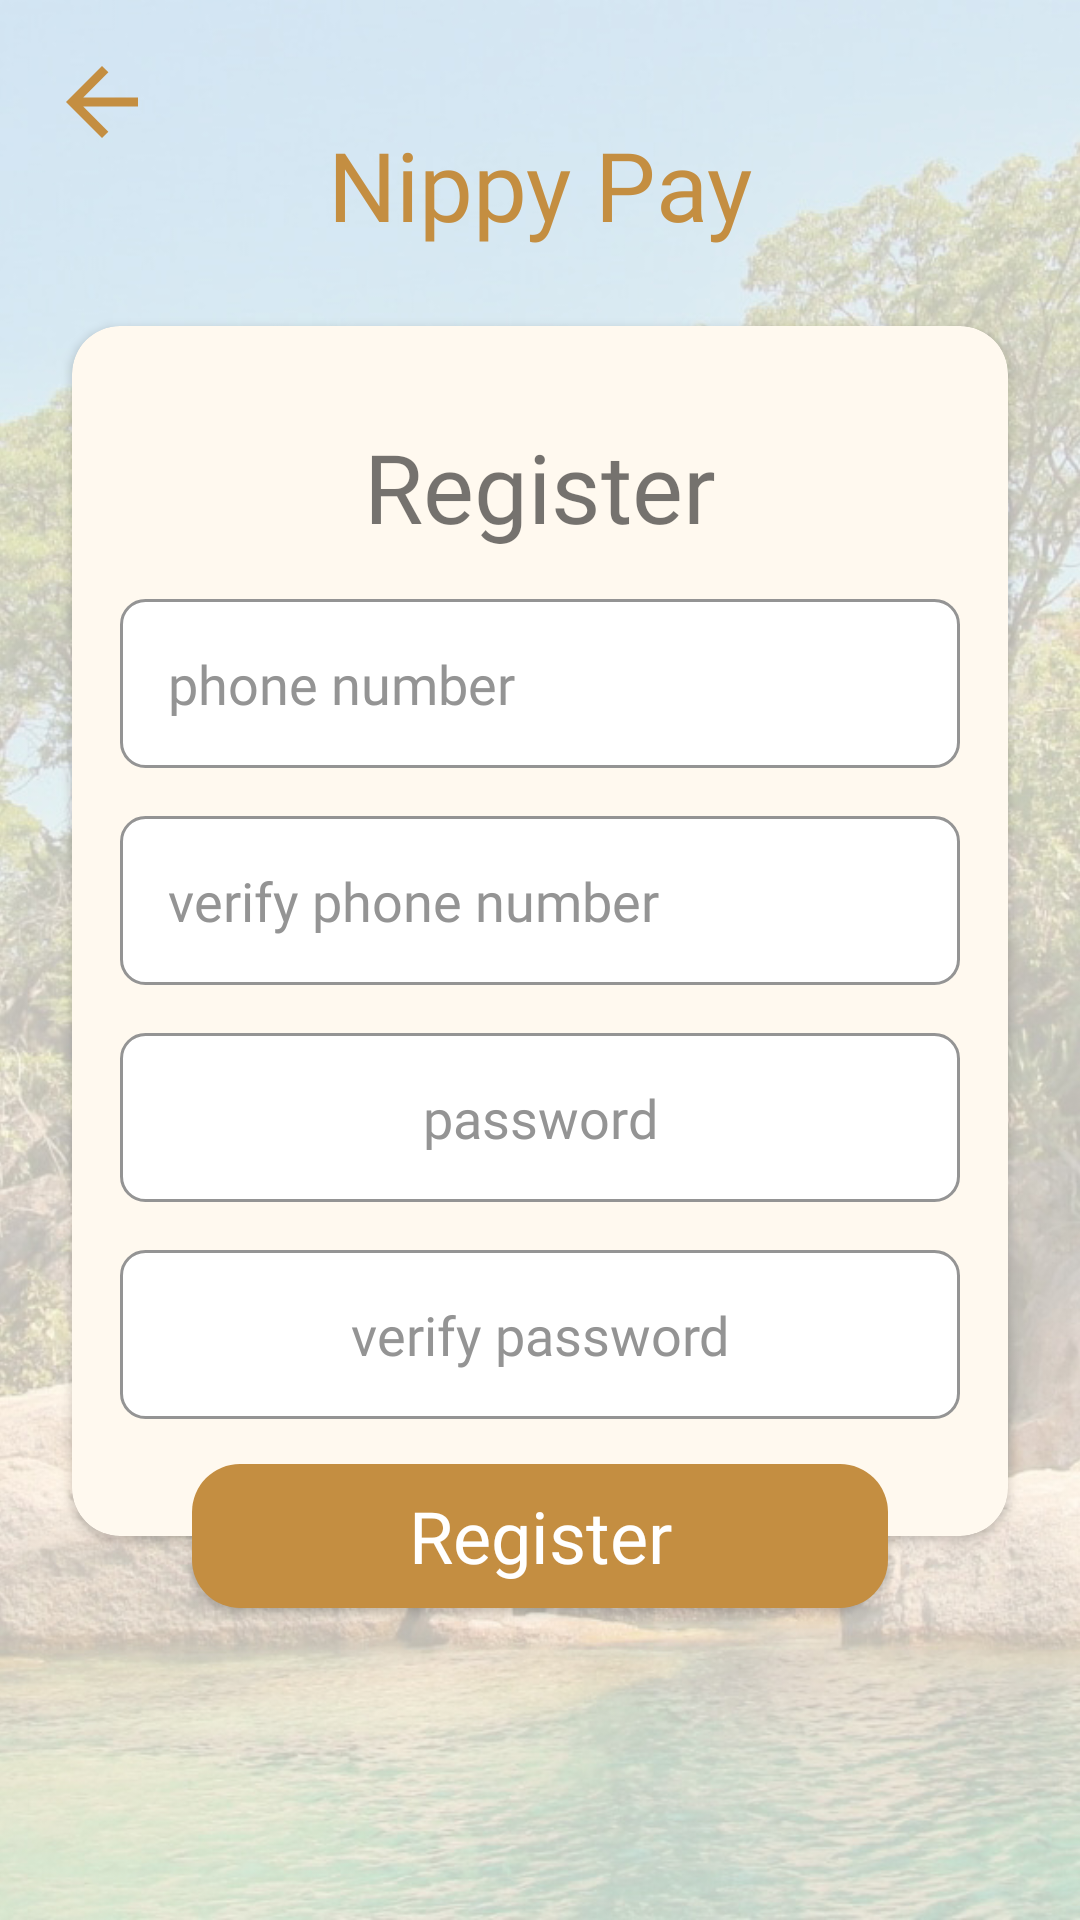

Icons on this 1080*1920 Android screen, each with its box as bbox=[x1, y1, x2, y2]:
arrow back: bbox=[66, 66, 138, 138]
